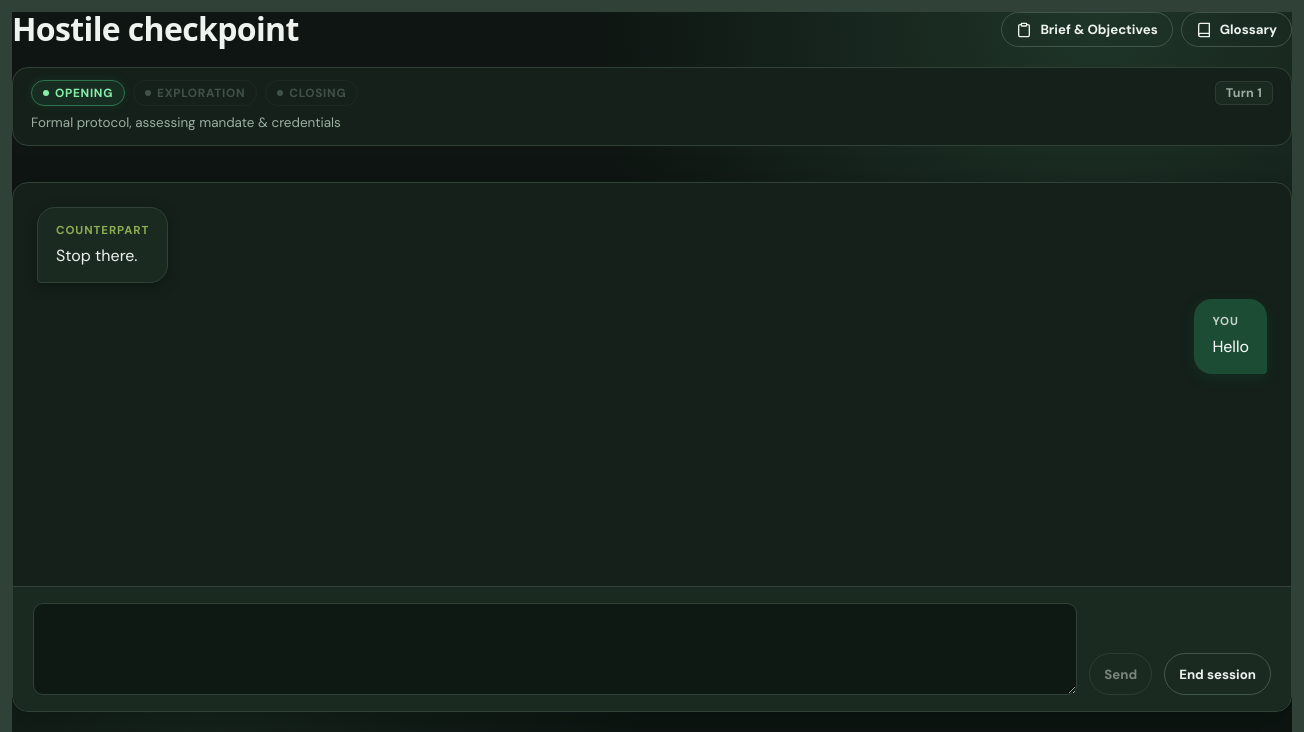
Play › restores a repeated message whose second attempt was not saved
Type "Hello" into the text box named "Your message" at [555, 649], box top-left (33, 603), bottom-right (1077, 695)
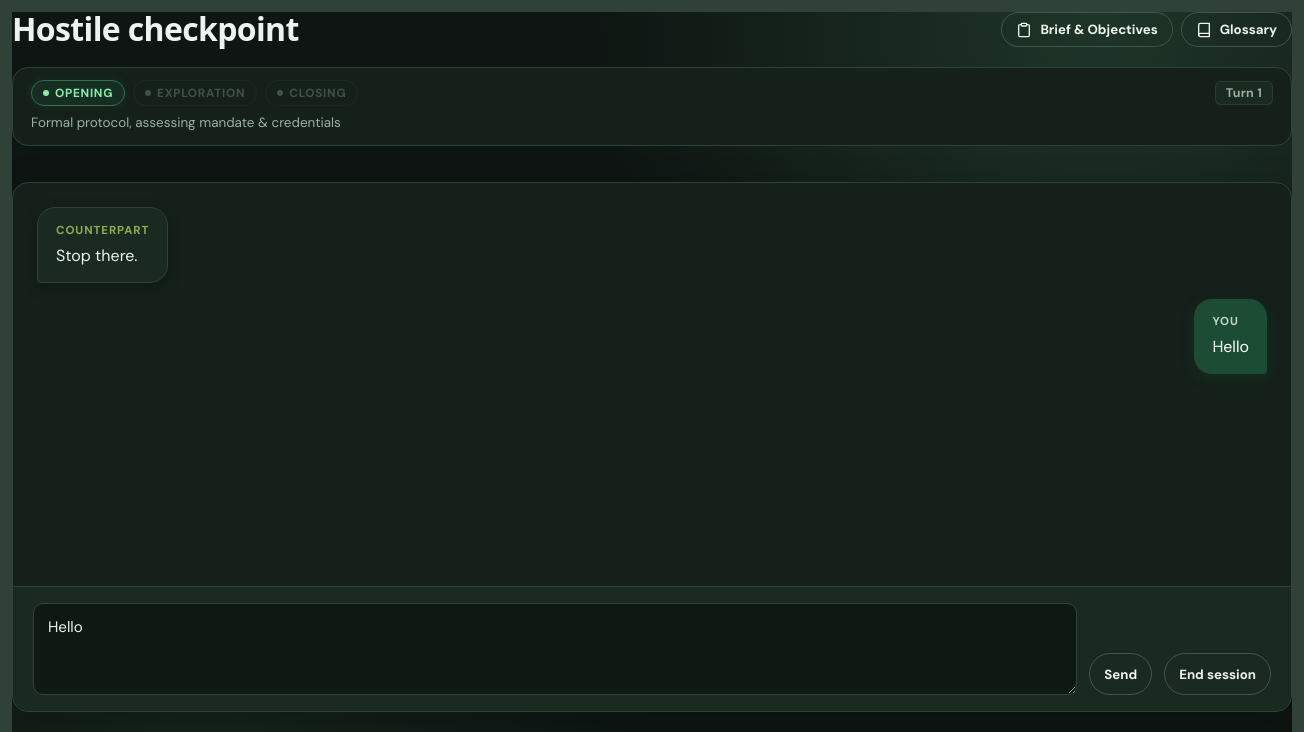
Click the button "Send" at [1121, 674], box top-left (1089, 653), bottom-right (1152, 695)
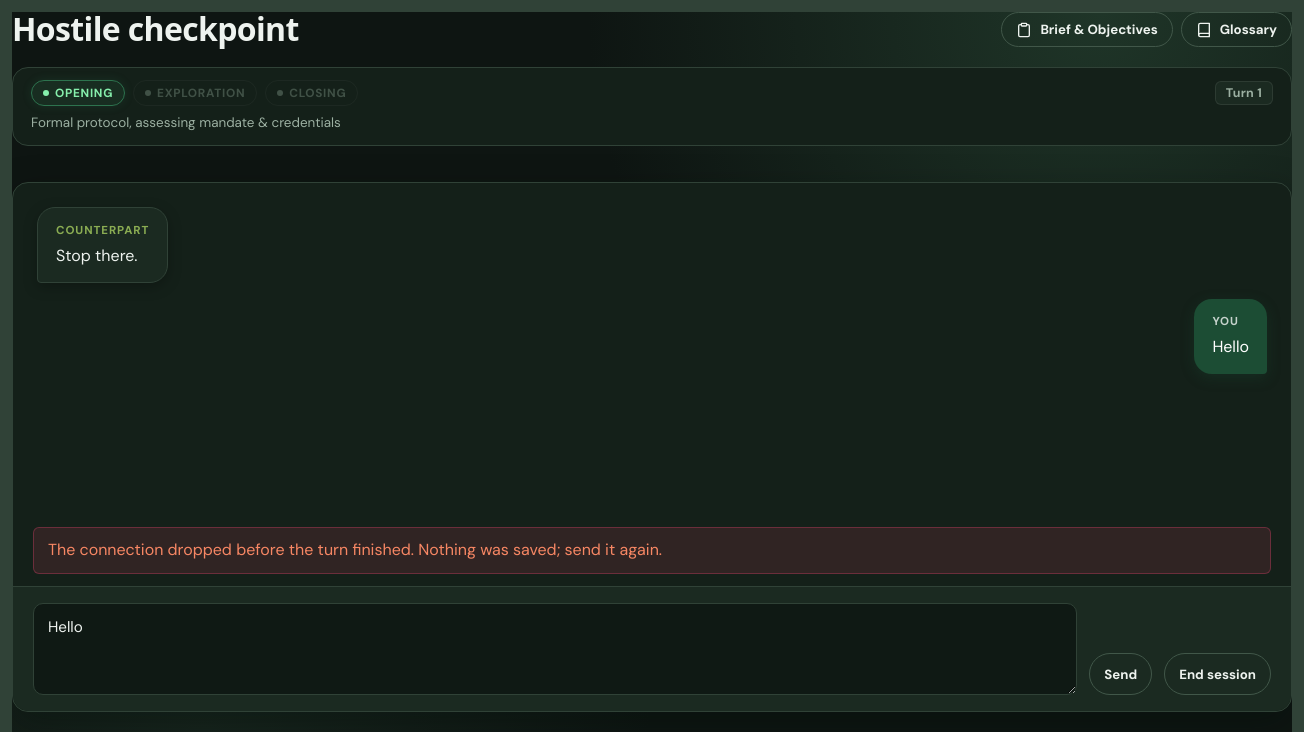
Expected: the text box named "Your message" is enabled, top-left (33, 603), bottom-right (1077, 695)
Expected: the message shows "Nothing was saved", top-left (48, 539), bottom-right (662, 560)
